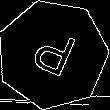P_SW: (25, 24, 80, 85)
